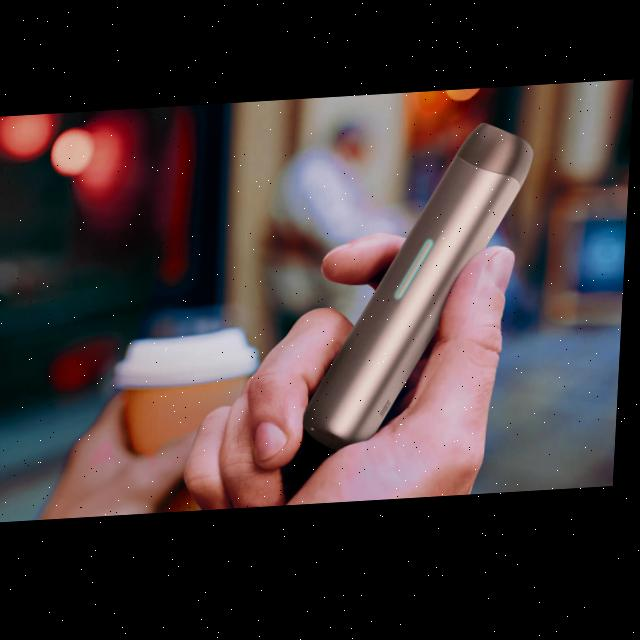vape: (307, 124, 537, 457)
